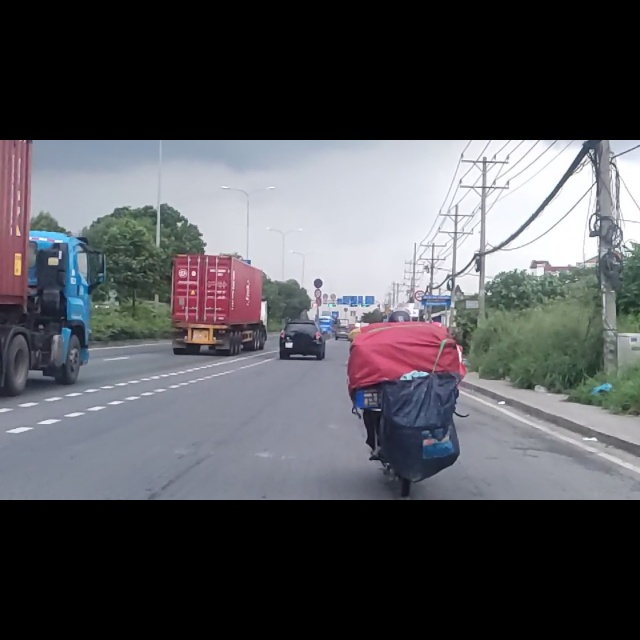bien_cam: (415, 268, 425, 287), (313, 245, 323, 262)
